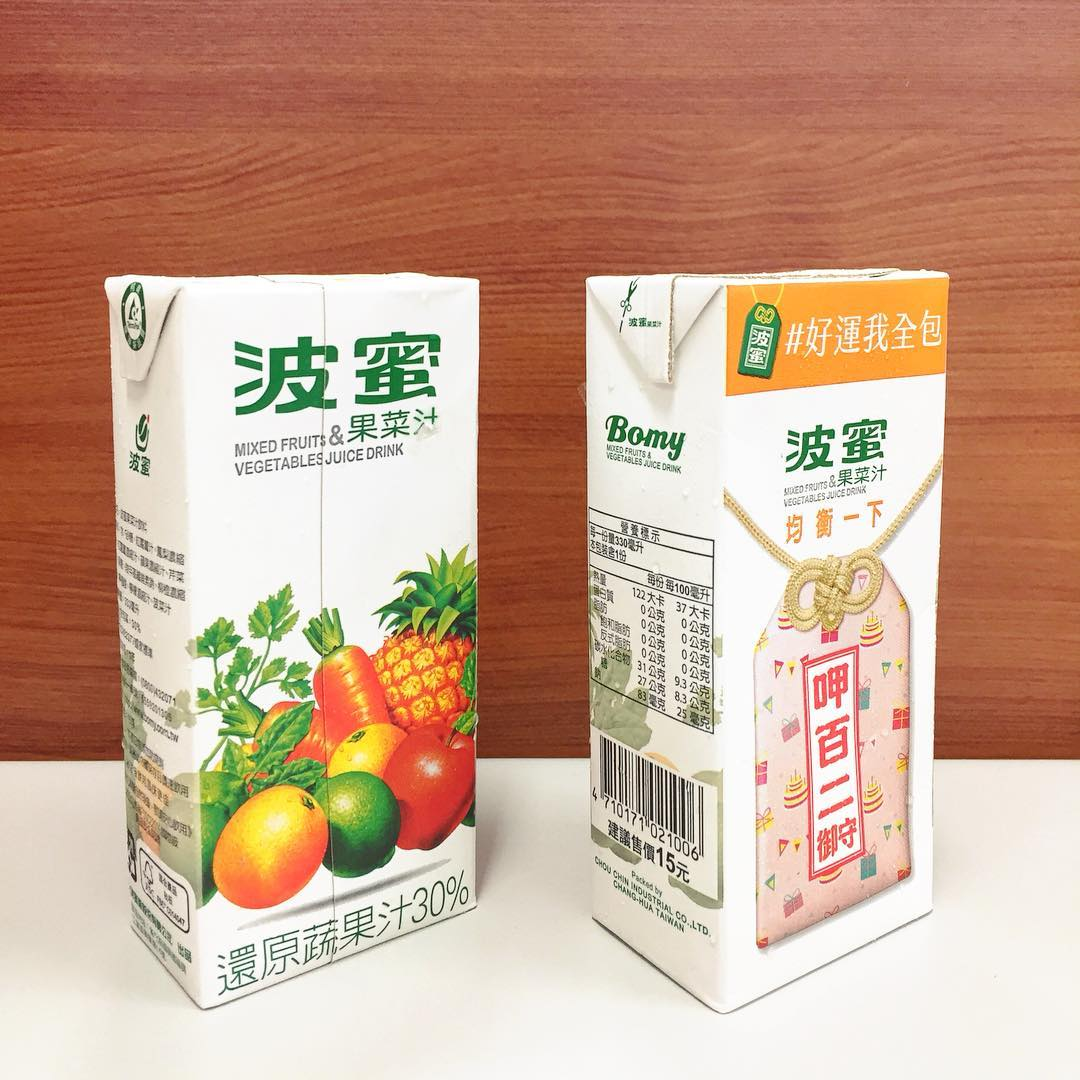vegetables juice: (88, 261, 487, 1003)
